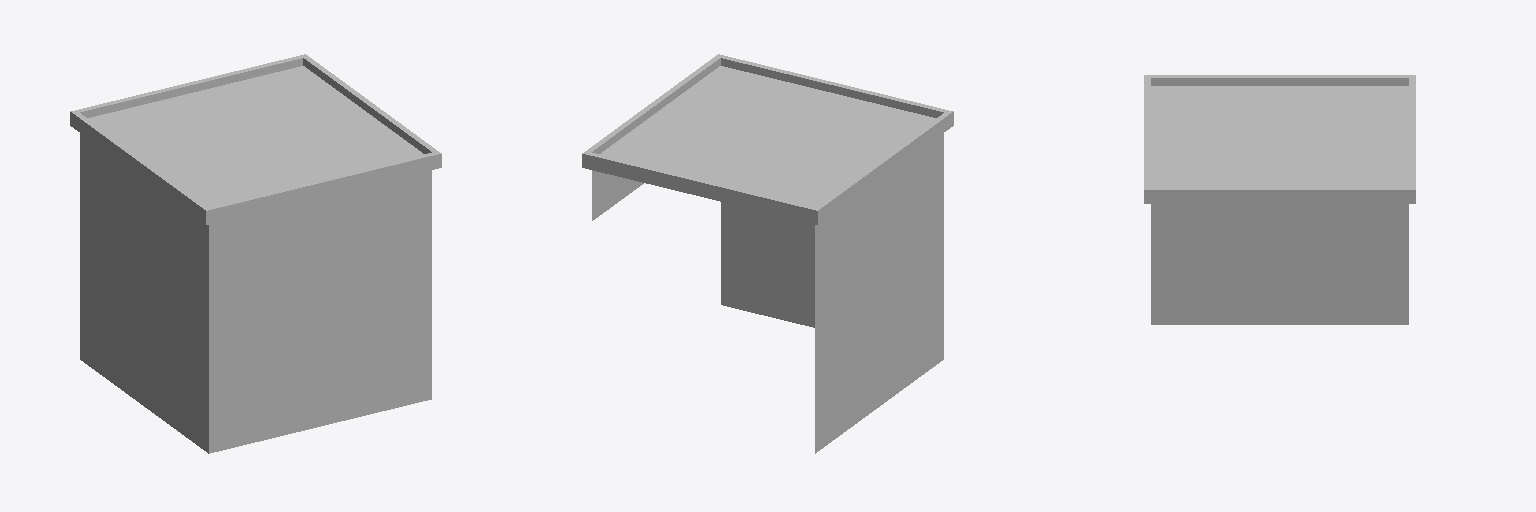
File: city_paramount8.obj
3 views of the same model, side by side, from view 1: azimuth 30°, elevation 25°; view 2: azimuth 150°, elevation 25°; view 3: azimuth 270°, elevation 25° (orthographic).
Parts seen in each view (by area): view 1: pCube6; view 2: pCube6; view 3: pCube6.
Boxes of the visible parts, x1,y1,x2,y2 form: pCube6: [70, 54, 441, 453]; pCube6: [582, 54, 953, 453]; pCube6: [1144, 75, 1415, 324].
Size of the model in its own units: 12.65 by 12.69 by 12.65.